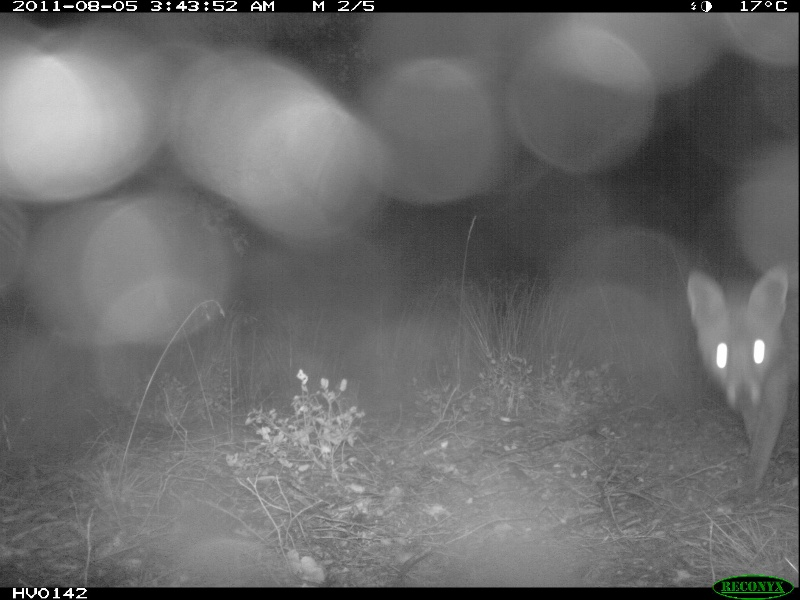fox: (681, 262, 800, 495)
